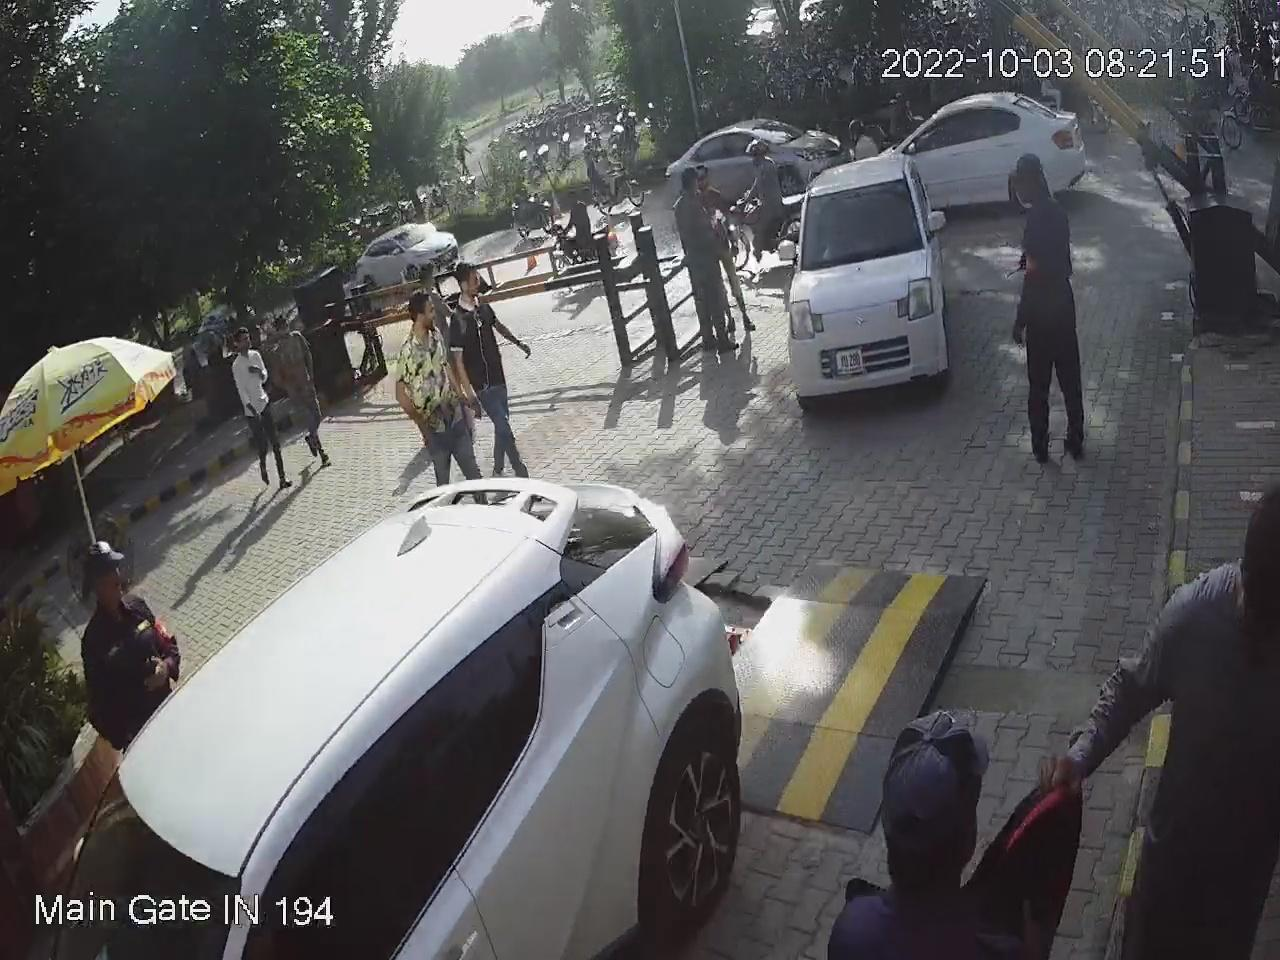windshield: (795, 172, 930, 267)
